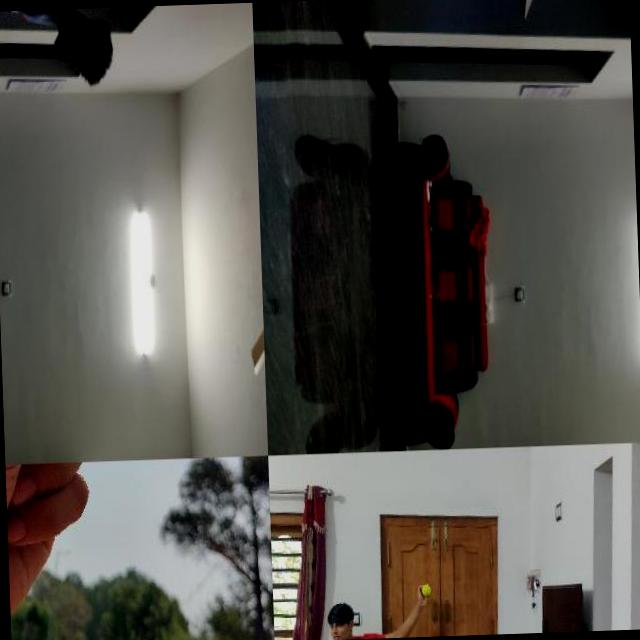Tennis Ball: (422, 584, 431, 596)
